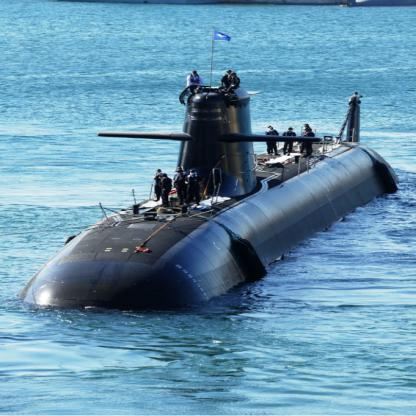Submarine: (19, 87, 400, 312)
